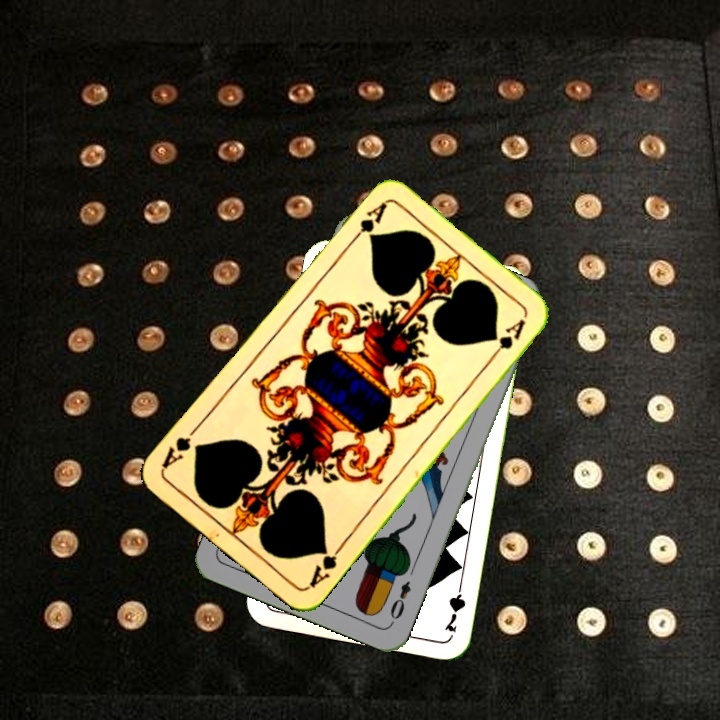EO: (385, 577, 414, 622)
G7: (440, 576, 468, 635)
GA: (345, 198, 390, 248), (305, 539, 347, 591)
